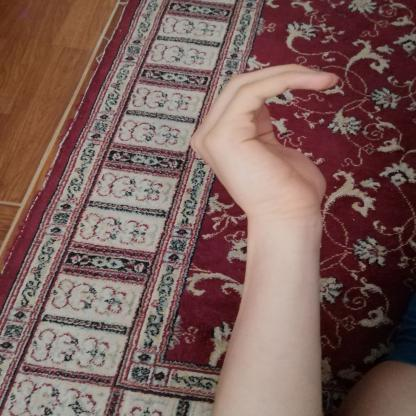HAA: (168, 52, 367, 229)
